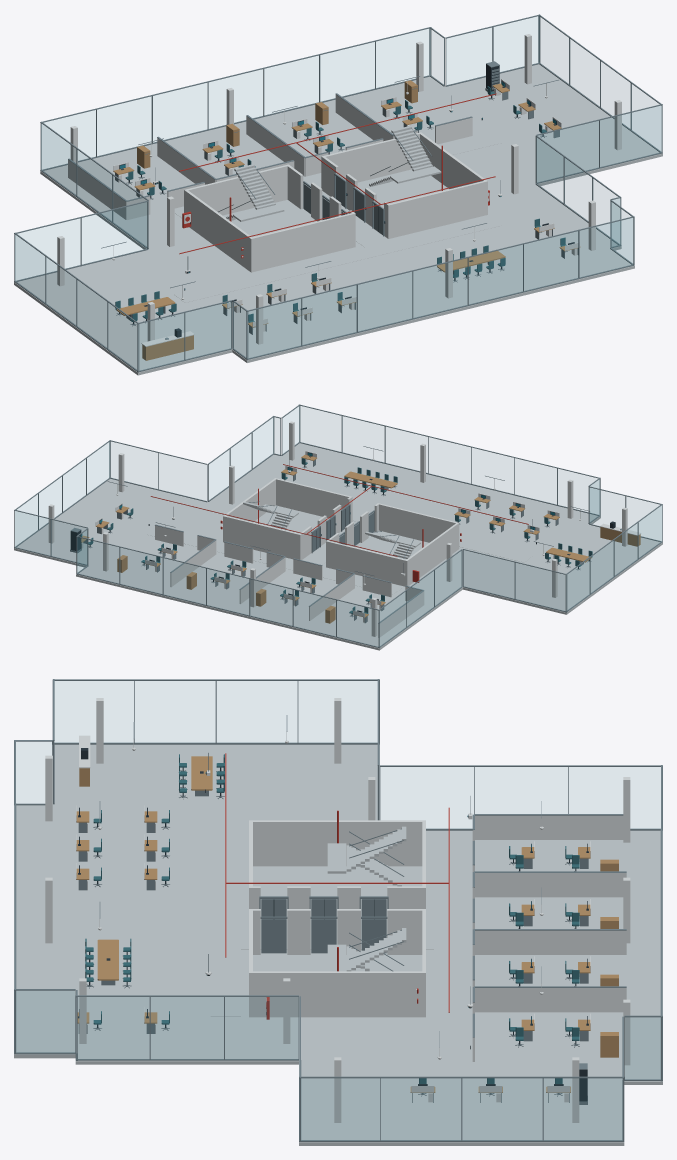
The picture shows the model from 3 angles, top to bottom: view 1: azimuth 30°, elevation 25°; view 2: azimuth 150°, elevation 25°; view 3: azimuth 270°, elevation 25°; orthographic projection. The views are drawn at different scales.
Parts seen in each view (by area): view 1: T1_F03_SLAB, T1_F03_WHITE, T1_F03_GLASS_S, T1_F03_GLASS_N, T1_F03_STEEL, T1_F03_GLASS_W, T1_F03_GLASS_E, T1_F03_WOOD, T1_F03_FABRIC, T1_F03_RED, T1_F03_DARK; view 2: T1_F03_SLAB, T1_F03_WHITE, T1_F03_GLASS_N, T1_F03_GLASS_S, T1_F03_STEEL, T1_F03_GLASS_W, T1_F03_GLASS_E, T1_F03_WOOD, T1_F03_FABRIC, T1_F03_RED, T1_F03_DARK; view 3: T1_F03_SLAB, T1_F03_WHITE, T1_F03_GLASS_E, T1_F03_GLASS_W, T1_F03_STEEL, T1_F03_WOOD, T1_F03_FABRIC, T1_F03_RED, T1_F03_DARK.
Part boxes in pixels (x1,y1,x2,y2): T1_F03_SLAB: (14, 64, 662, 375); T1_F03_WHITE: (57, 34, 621, 346); T1_F03_GLASS_S: (140, 106, 660, 370); T1_F03_GLASS_N: (19, 17, 538, 267); T1_F03_STEEL: (14, 14, 662, 372); T1_F03_GLASS_W: (15, 125, 245, 369); T1_F03_GLASS_E: (431, 18, 657, 243); T1_F03_WOOD: (113, 80, 580, 360); T1_F03_FABRIC: (115, 86, 566, 322); T1_F03_RED: (179, 93, 496, 258); T1_F03_DARK: (119, 64, 574, 337); T1_F03_SLAB: (14, 443, 662, 650); T1_F03_WHITE: (48, 421, 641, 637); T1_F03_GLASS_N: (15, 512, 564, 646); T1_F03_GLASS_S: (110, 406, 657, 527); T1_F03_STEEL: (14, 404, 662, 648); T1_F03_GLASS_W: (380, 480, 661, 645); T1_F03_GLASS_E: (18, 408, 298, 536); T1_F03_WOOD: (81, 455, 640, 623); T1_F03_FABRIC: (88, 458, 592, 613); T1_F03_RED: (150, 464, 528, 582); T1_F03_DARK: (70, 452, 615, 615); T1_F03_SLAB: (14, 744, 662, 1145); T1_F03_WHITE: (45, 698, 630, 1122); T1_F03_GLASS_E: (16, 991, 660, 1139); T1_F03_GLASS_W: (16, 681, 660, 828); T1_F03_STEEL: (14, 679, 662, 1141); T1_F03_WOOD: (76, 756, 618, 1092); T1_F03_FABRIC: (85, 754, 579, 1083); T1_F03_RED: (225, 753, 449, 1019); T1_F03_DARK: (78, 748, 588, 1101).
Size of the model in its own units: 55.47 by 4.5 by 38.19.
